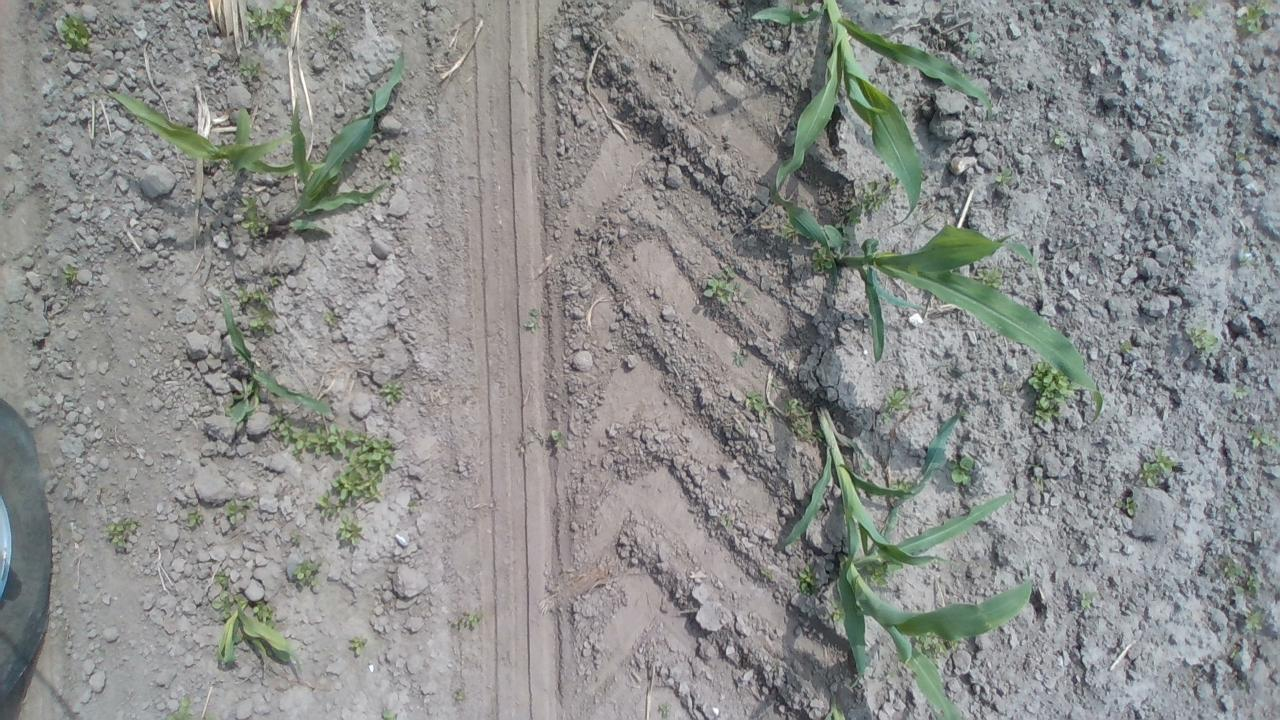Maize: (769, 175, 1106, 431), (750, 0, 996, 223), (778, 401, 968, 685), (835, 488, 1036, 720), (268, 50, 406, 238), (87, 85, 326, 176), (212, 282, 335, 422), (215, 598, 292, 668), (814, 690, 847, 720)
Weeds: (317, 436, 396, 520), (829, 176, 899, 242), (268, 414, 362, 456), (1027, 356, 1081, 426), (235, 275, 282, 335), (248, 0, 295, 47), (911, 630, 960, 669), (1136, 446, 1178, 487), (784, 397, 820, 444), (54, 12, 96, 51), (238, 192, 270, 238), (878, 386, 914, 426), (102, 516, 143, 550), (702, 266, 738, 304), (291, 556, 326, 590), (1236, 0, 1270, 35), (1184, 319, 1219, 352), (334, 512, 364, 548), (947, 454, 977, 488), (1245, 426, 1280, 455), (210, 574, 232, 618), (223, 496, 255, 526), (745, 390, 775, 422), (974, 264, 1004, 292), (162, 694, 194, 720), (810, 243, 834, 273), (799, 563, 820, 597), (774, 213, 798, 241), (378, 377, 404, 402), (382, 142, 401, 175), (253, 599, 273, 630), (866, 564, 889, 589), (522, 306, 544, 332), (1223, 557, 1244, 584), (1244, 606, 1264, 632), (1234, 572, 1258, 592), (1185, 0, 1210, 19), (1048, 127, 1068, 150), (222, 391, 242, 414), (549, 428, 568, 452), (239, 54, 258, 78), (828, 598, 844, 626), (1116, 496, 1136, 518), (455, 610, 482, 625), (994, 166, 1014, 186), (186, 508, 205, 528), (350, 636, 368, 656), (965, 32, 978, 59), (1080, 591, 1098, 608), (890, 476, 911, 489), (65, 264, 78, 284), (732, 352, 748, 368), (324, 312, 338, 328), (658, 703, 672, 718), (1151, 153, 1167, 166), (1119, 339, 1132, 354), (327, 24, 339, 40), (1184, 255, 1197, 269), (1232, 387, 1248, 398), (1031, 474, 1042, 490), (290, 530, 302, 543), (1224, 502, 1237, 514), (1233, 151, 1247, 162), (382, 709, 396, 720), (761, 566, 772, 580), (884, 670, 898, 681), (408, 498, 417, 513), (723, 514, 734, 526), (1238, 678, 1250, 688), (452, 690, 464, 700), (192, 198, 202, 209), (1, 198, 10, 208)
